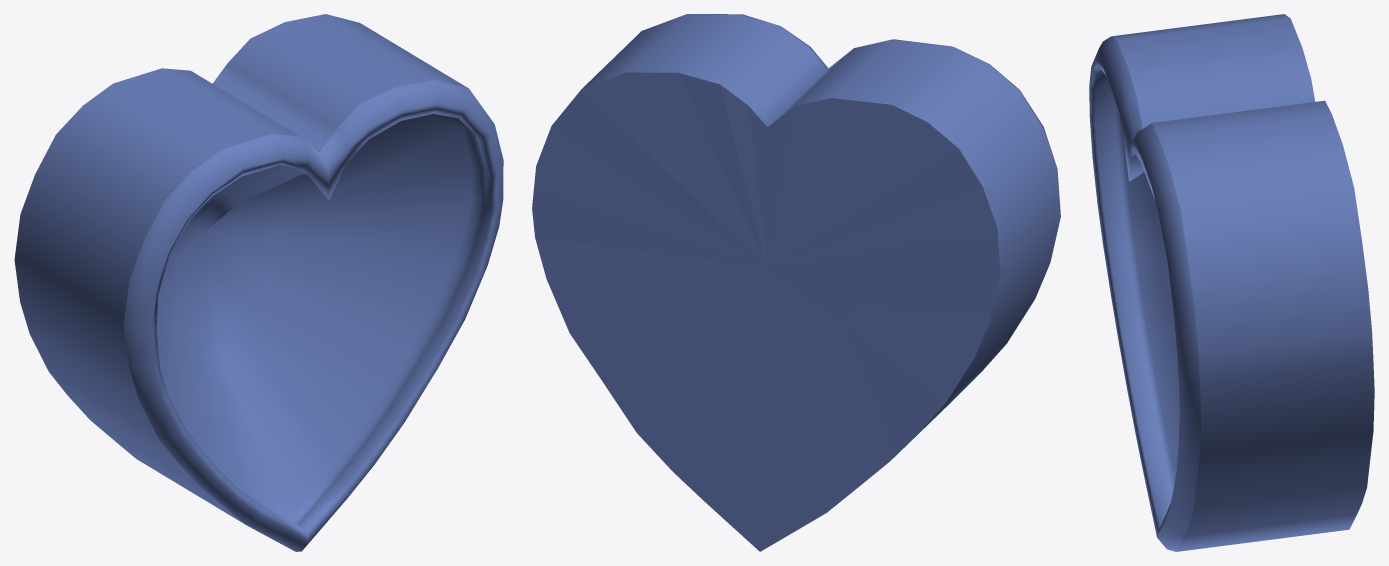
Rendered from TR1_8shapes_heart_Classic_Metal.001 3.glb.
The picture shows the model from 3 angles, left to right: view 1: azimuth 30°, elevation 25°; view 2: azimuth 150°, elevation 25°; view 3: azimuth 270°, elevation 25°; orthographic projection. The views are drawn at different scales.
Visible parts, largest first — view 1: TR1_8shapes_heart_Classic_Metal.001; view 2: TR1_8shapes_heart_Classic_Metal.001; view 3: TR1_8shapes_heart_Classic_Metal.001.
Part boxes in pixels (x1=…): TR1_8shapes_heart_Classic_Metal.001: x1=14, y1=14, x2=503, y2=551; TR1_8shapes_heart_Classic_Metal.001: x1=532, y1=14, x2=1060, y2=551; TR1_8shapes_heart_Classic_Metal.001: x1=1089, y1=14, x2=1374, y2=551.
Bounding box in the file's own units: 0.6427 × 0.6313 × 0.3474.
